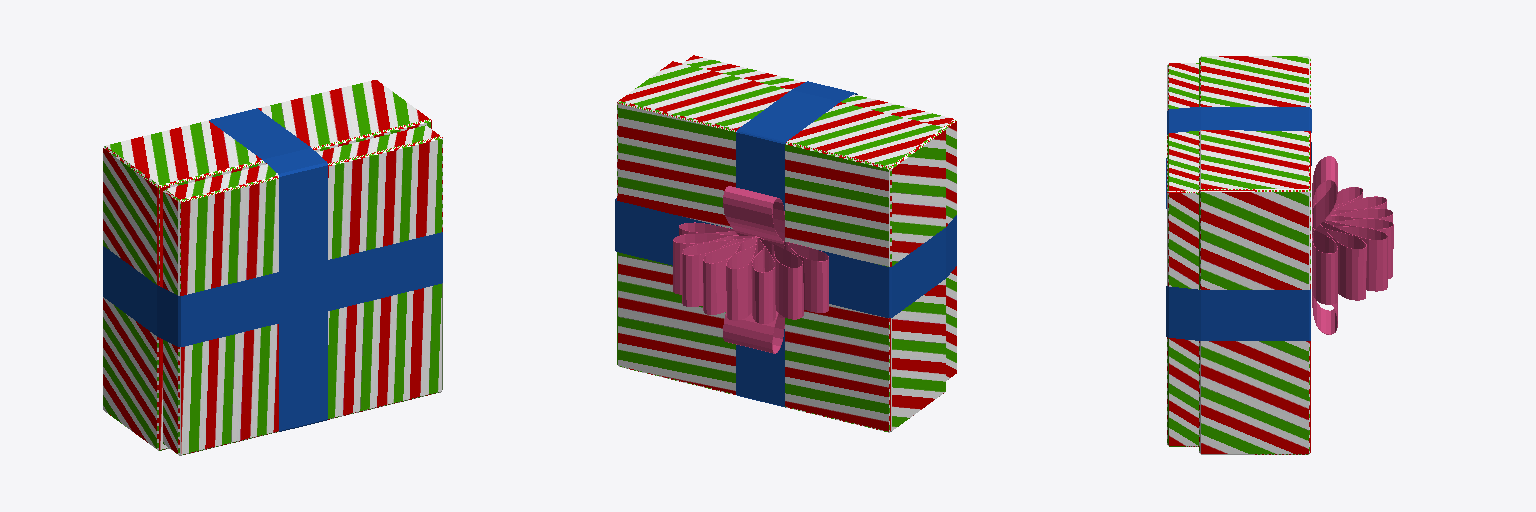
3 renders of one model, left to right at view 1: azimuth 30°, elevation 25°; view 2: azimuth 150°, elevation 25°; view 3: azimuth 270°, elevation 25°, orthographic.
Visible parts, largest first — view 1: Box03, Box04, Plane04, Plane06; view 2: Box04, Plane04, Plane06, Box03, Plane07, Plane09, Plane10, Plane11, Plane08; view 3: Box04, Box03, Plane04, Plane06, Plane11, Plane10, Plane08, Plane07, Plane09.
Part boxes in pixels (bbox=[...]): Box03: bbox=[163, 125, 442, 455]; Box04: bbox=[103, 80, 431, 450]; Plane04: bbox=[103, 232, 442, 346]; Plane06: bbox=[209, 108, 327, 431]; Box04: bbox=[617, 61, 945, 432]; Plane04: bbox=[615, 198, 956, 317]; Plane06: bbox=[736, 81, 857, 407]; Box03: bbox=[682, 55, 956, 380]; Plane07: bbox=[723, 186, 784, 353]; Plane09: bbox=[703, 237, 757, 320]; Plane10: bbox=[682, 237, 775, 323]; Plane11: bbox=[673, 234, 803, 319]; Plane08: bbox=[679, 222, 828, 312]; Box04: bbox=[1199, 56, 1310, 454]; Box03: bbox=[1167, 63, 1198, 446]; Plane04: bbox=[1166, 158, 1310, 340]; Plane06: bbox=[1167, 107, 1311, 165]; Plane11: bbox=[1316, 187, 1366, 300]; Plane10: bbox=[1321, 196, 1387, 291]; Plane08: bbox=[1312, 181, 1337, 304]; Plane07: bbox=[1312, 156, 1337, 334]; Plane09: bbox=[1323, 208, 1393, 278].
Size of the model in its own units: 143 by 132 by 102.
Materials: 3 (1 with a texture image).